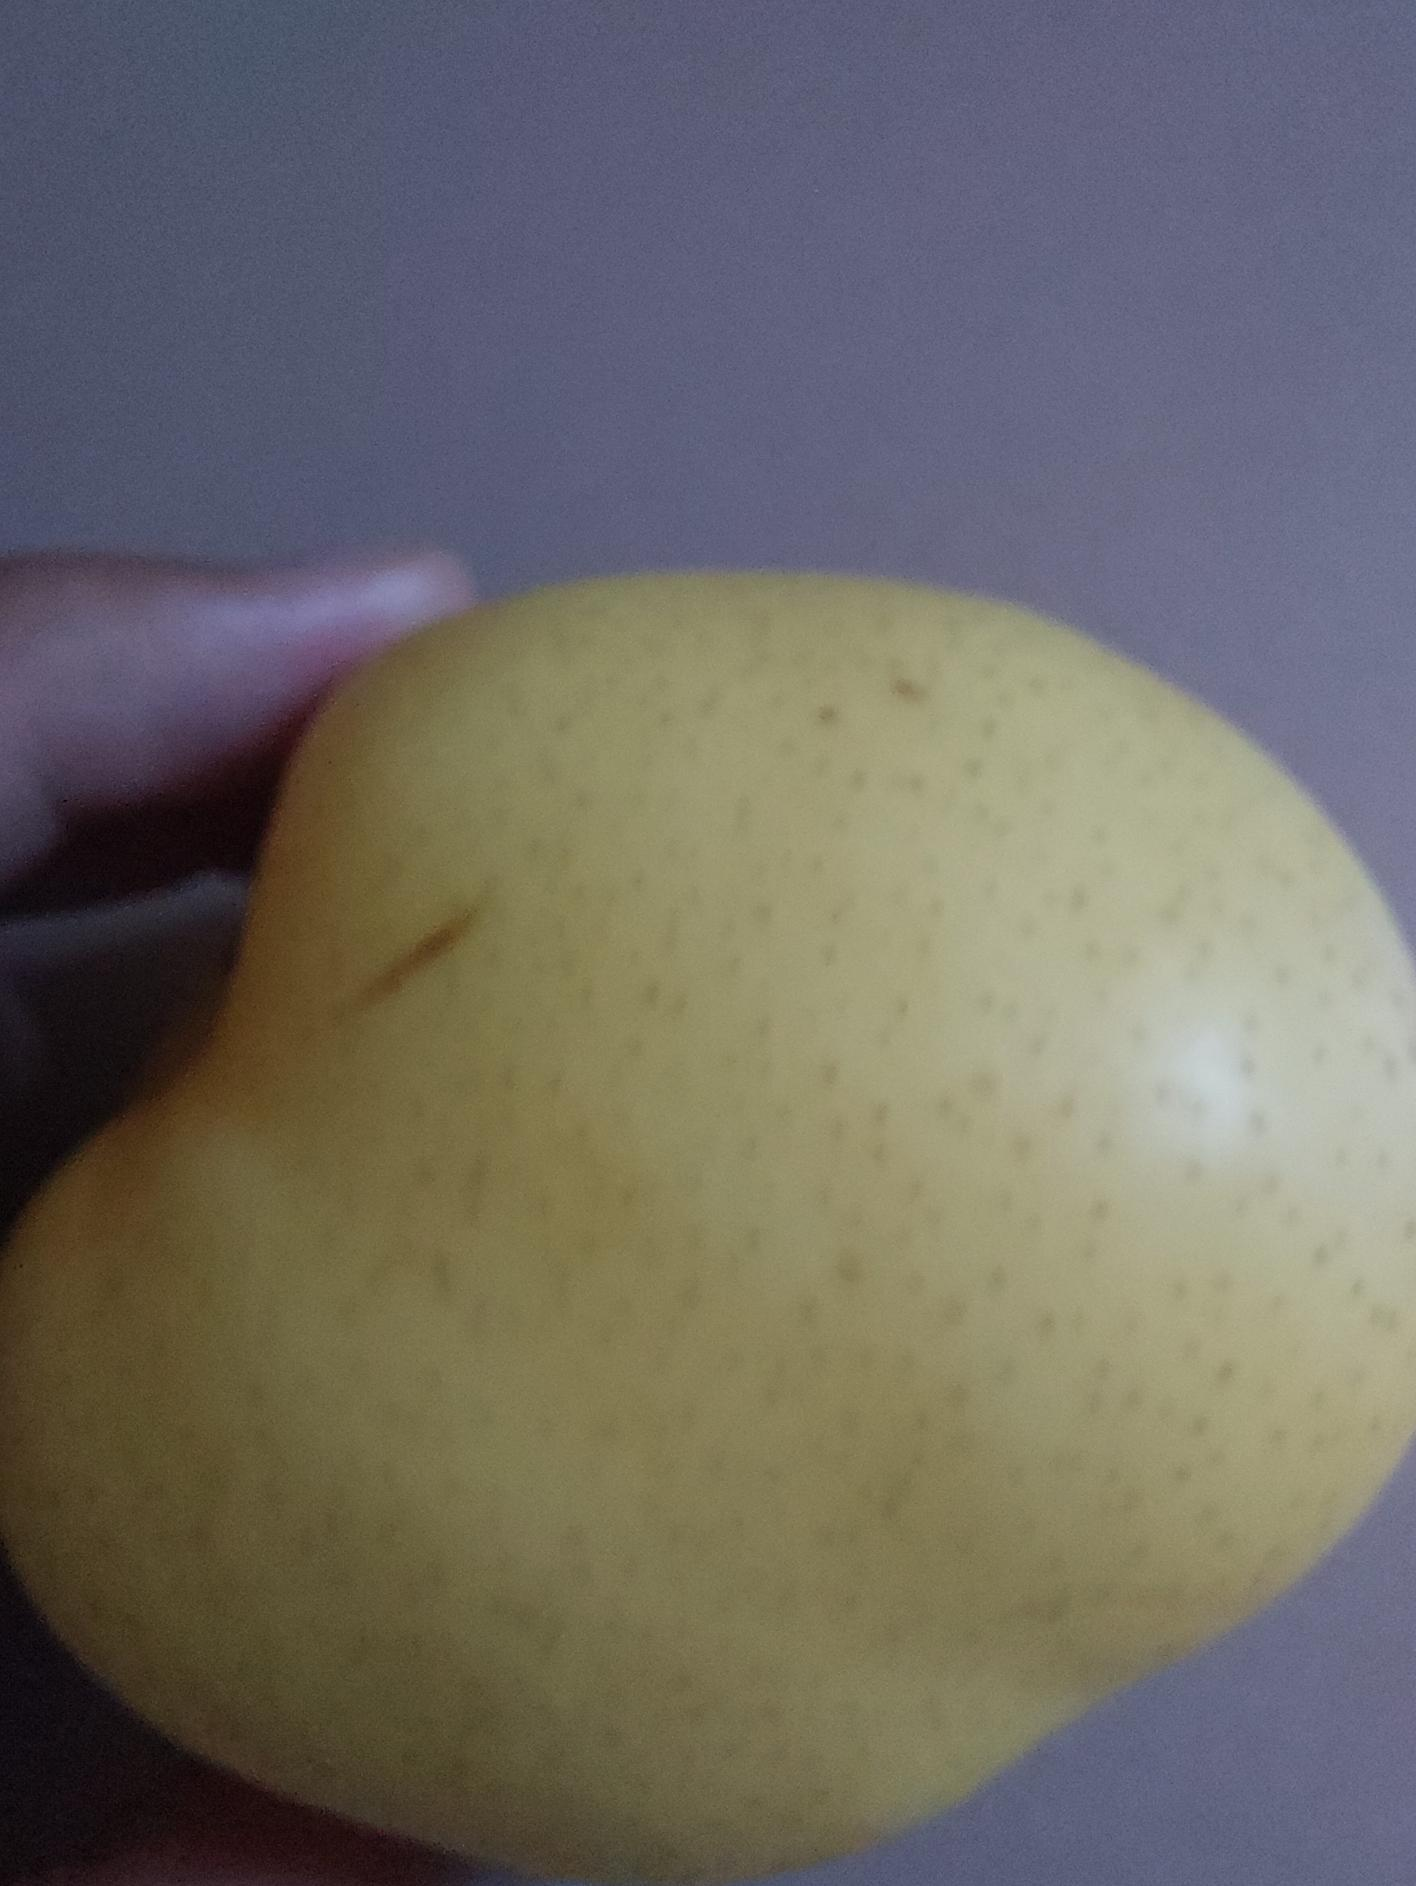Good Pear: (3, 586, 1416, 1886)
